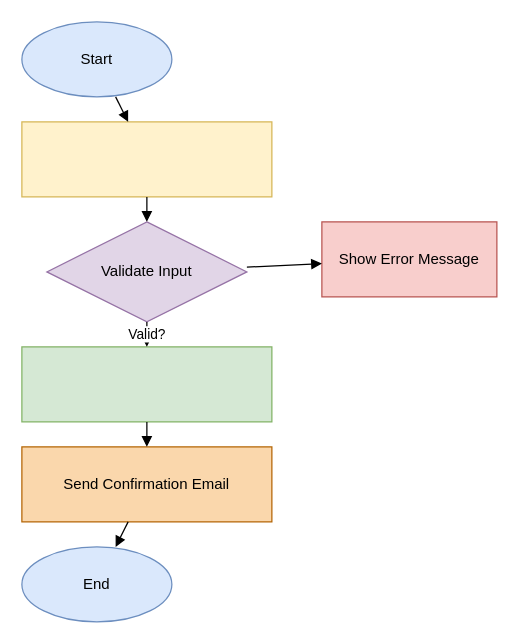
This 519x644 diagram has some shape labels left out. The shapes that lost their labels are listed below. From the top down, each one's box as (x1, y1, x2, y2) in pixels, then its label:
(21, 121, 272, 197): User Enters Info (name, email, password)
(21, 346, 272, 422): Hash Password & Store in DB
